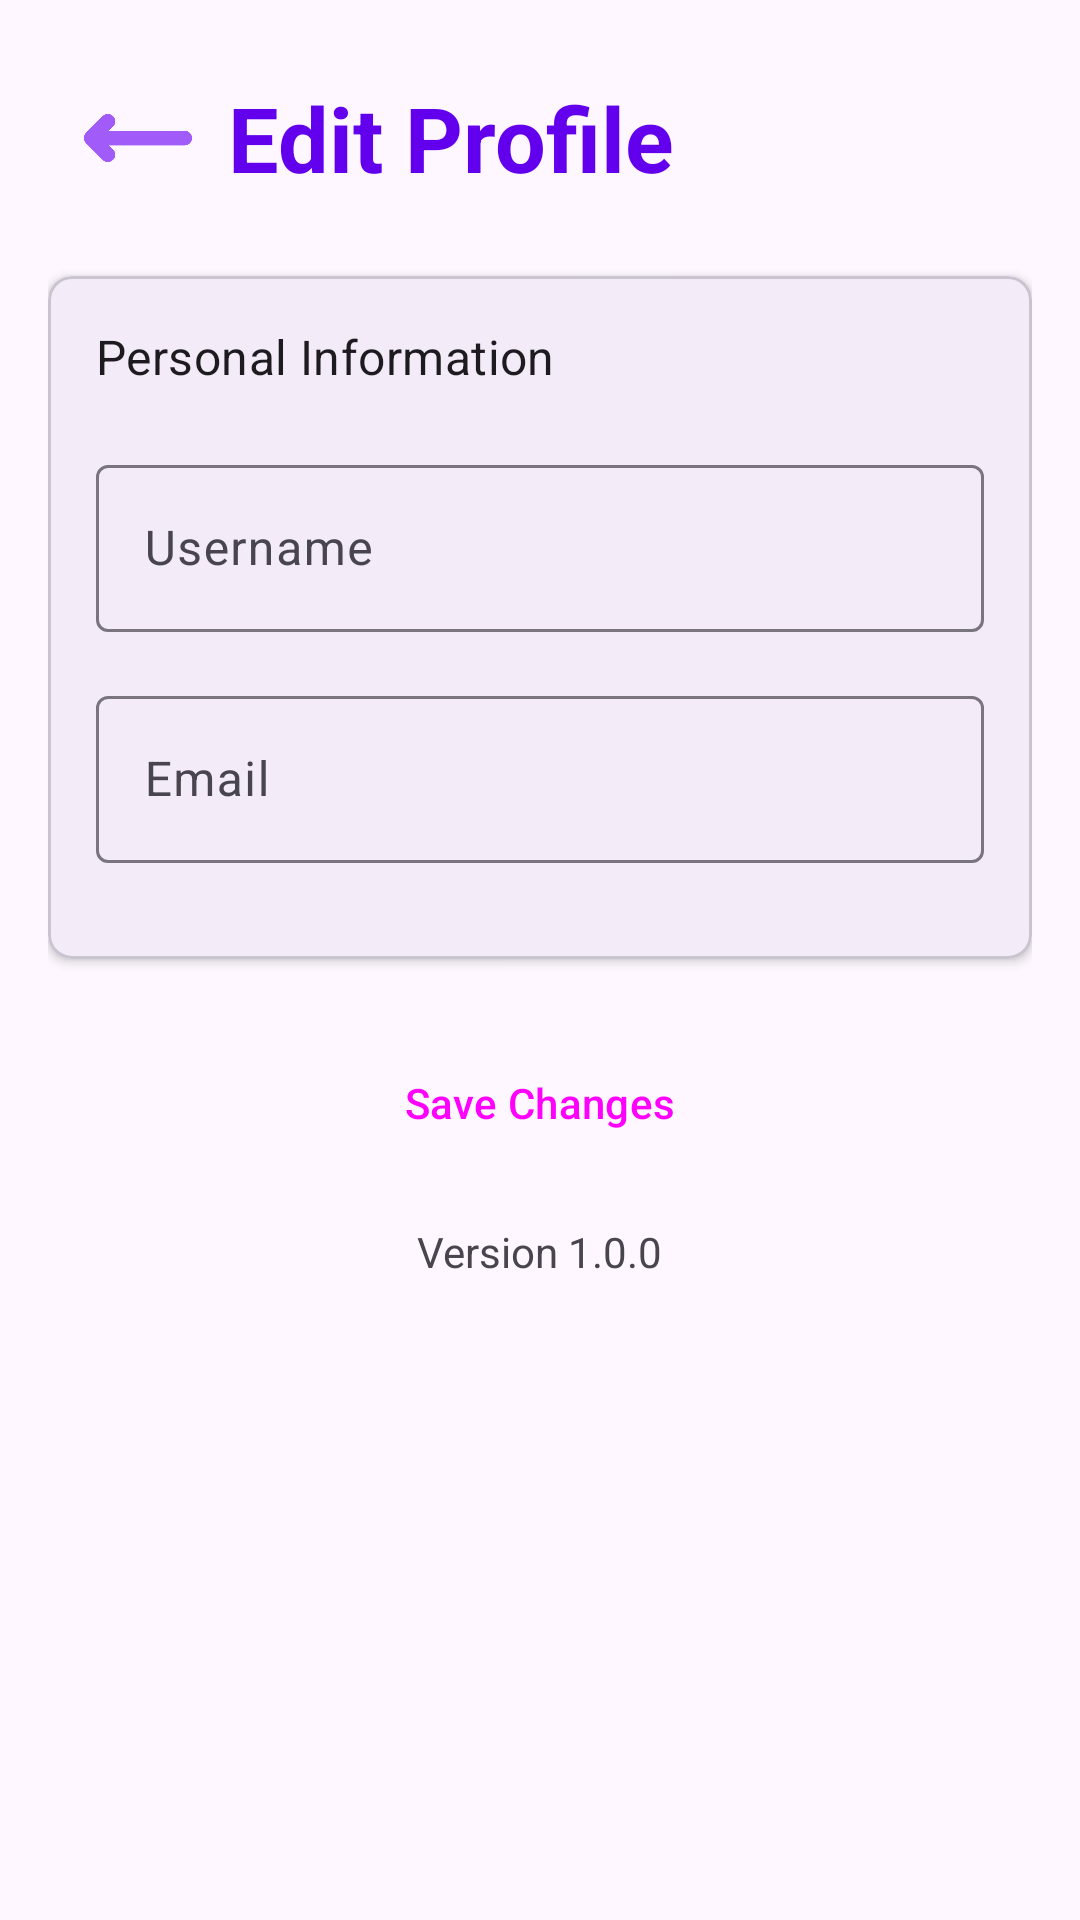

Icon click points for this 1080x1920 phone screenshot, format [x,y]:
Back: [138,138]
